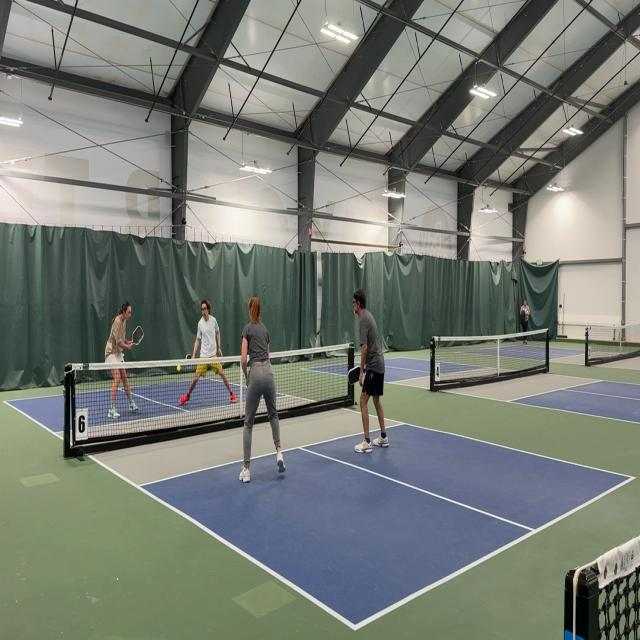ball: (176, 362, 182, 372)
